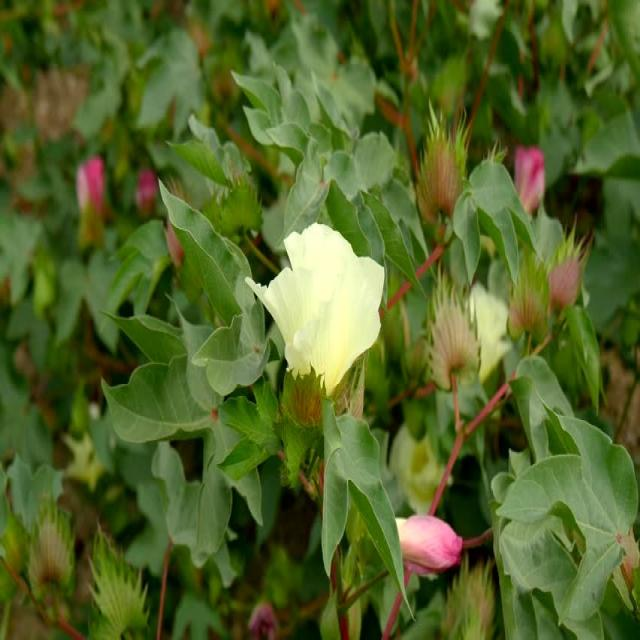Healthy Leaf: (0, 1, 639, 640)
